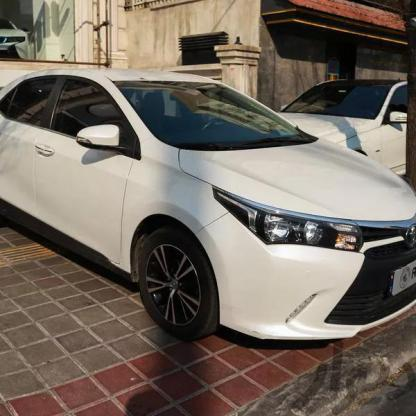Car: (0, 50, 416, 369), (278, 73, 416, 188)
